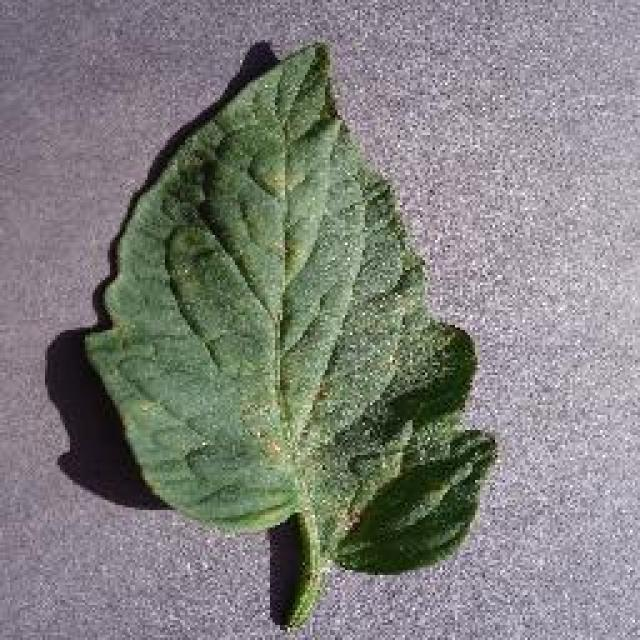Tomato___Target_Spot: (85, 42, 495, 625)
